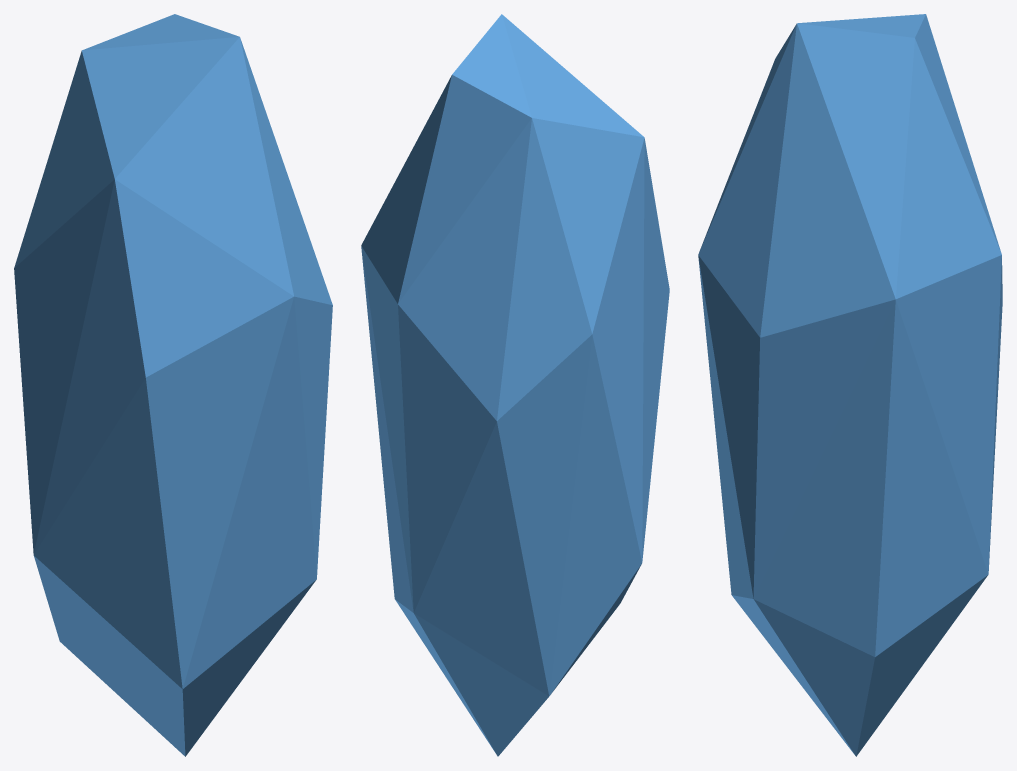
Rendered from cristal1.fbx.
3 renders of one model, left to right at view 1: azimuth 30°, elevation 25°; view 2: azimuth 150°, elevation 25°; view 3: azimuth 270°, elevation 25°, orthographic. The views are drawn at different scales.
Parts seen in each view (by area): view 1: cristal1; view 2: cristal1; view 3: cristal1.
Part boxes in pixels (<box>): cristal1: <box>14,14,332,756</box>; cristal1: <box>361,14,669,756</box>; cristal1: <box>698,14,1002,756</box>.
Size of the model in its own units: 188 by 487 by 180.
